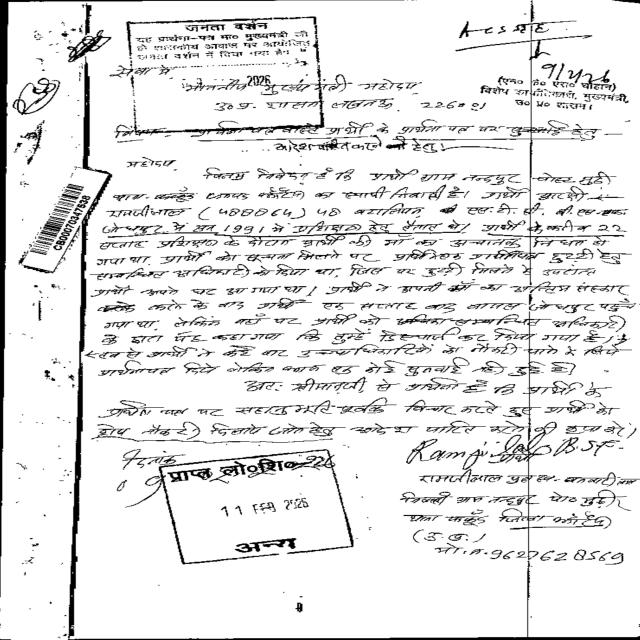antritgovtstamp: (136, 449, 362, 566)
barcode: (19, 161, 112, 274)
jantadarsan: (125, 17, 331, 129)
signnamestamp: (480, 35, 637, 113)
